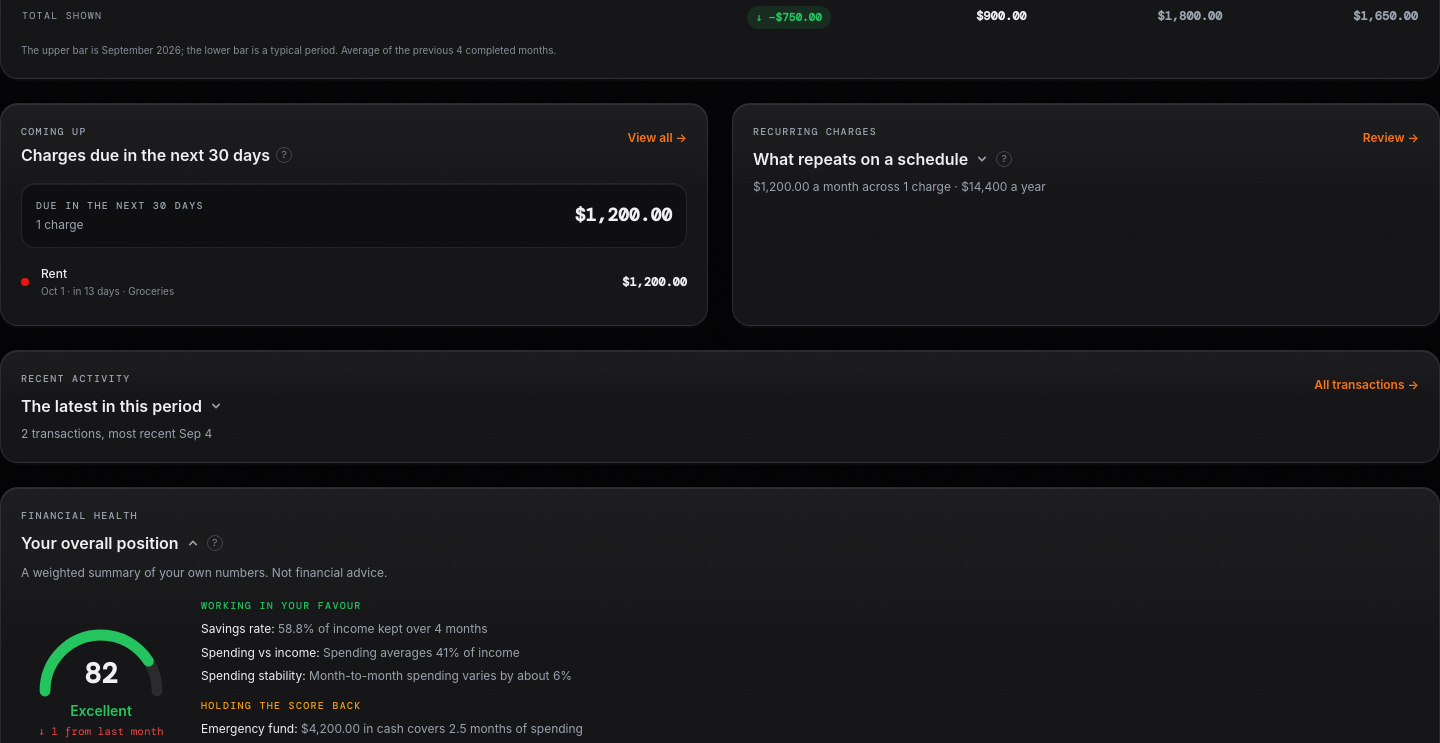
it: AnalyticsTab › expands a collapsed section on demand
This screenshot has width=1440, height=743.
(page scrolled)
Click the button "The latest in this period": (122, 406) [21,390,224,422]
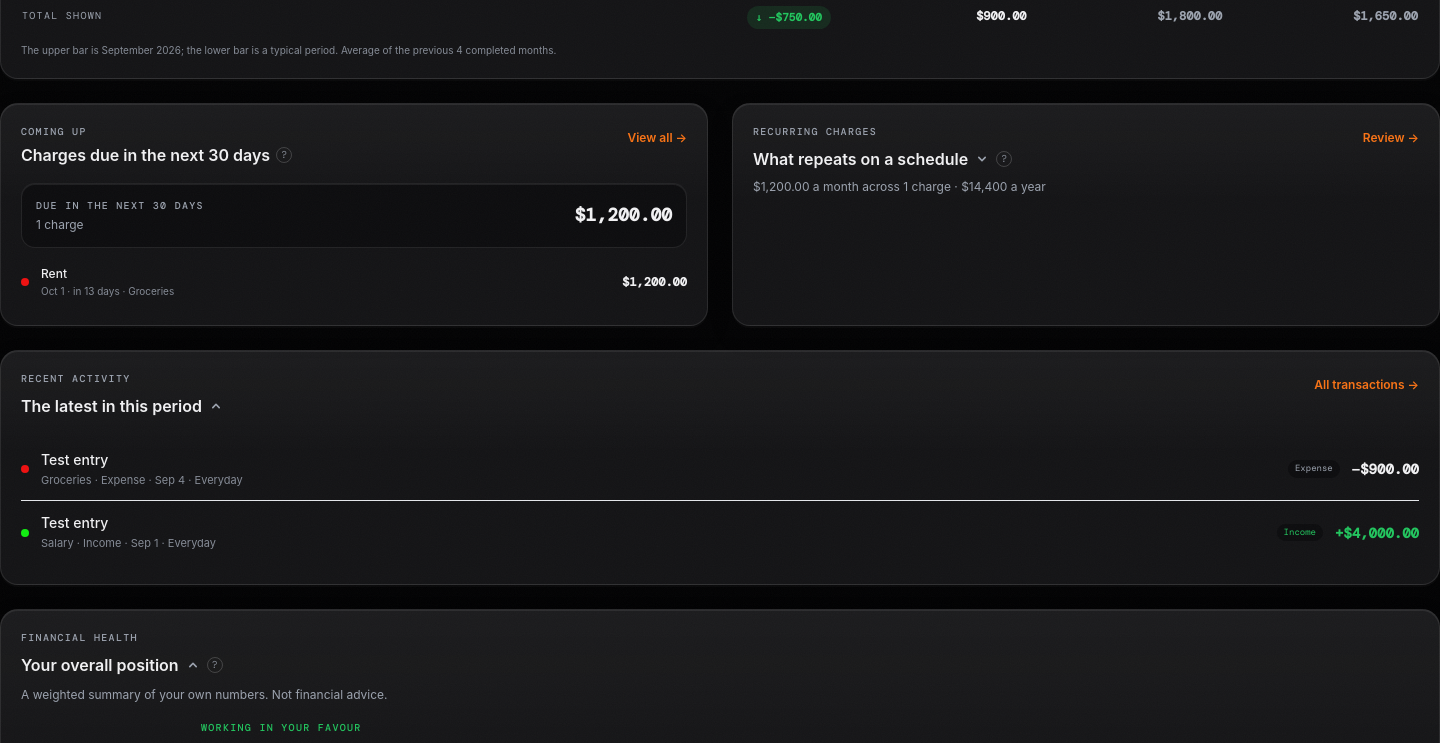
Expected: the button "The latest in this period" is expanded, [21,390,224,422]
